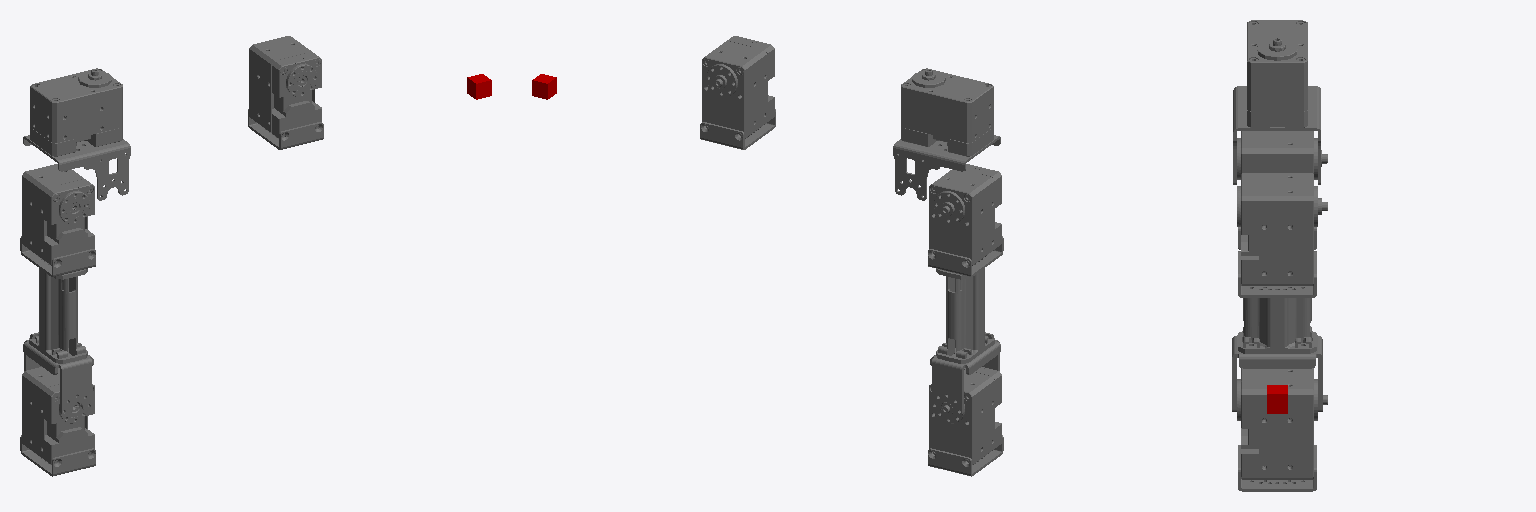
URDF robot description (turtlebot3_manipulation):
<?xml version="1.0"?>
<!-- TurtleBot3 Manipulation -->
<robot name="turtlebot3_manipulation" xmlns:xacro="http://ros.org/wiki/xacro">

  <!-- TurtleBot3 Pi -->

  <!-- Init colour -->
  <material name="black">
      <color rgba="0.0 0.0 0.0 1.0"/>
  </material>

  <material name="dark">
    <color rgba="0.3 0.3 0.3 1.0"/>
  </material>

  <material name="light_black">
    <color rgba="0.4 0.4 0.4 1.0"/>
  </material>

  <material name="blue">
    <color rgba="0.0 0.0 0.8 1.0"/>
  </material>

  <material name="green">
    <color rgba="0.0 0.8 0.0 1.0"/>
  </material>

  <material name="grey">
    <color rgba="0.5 0.5 0.5 1.0"/>
  </material>

  <material name="orange">
    <color rgba="1.0 0.4235 0.0392 1.0"/>
  </material>

  <material name="brown">
    <color rgba="0.8706 0.8118 0.7647 1.0"/>
  </material>

  <material name="red">
    <color rgba="0.8 0.0 0.0 1.0"/>
  </material>

  <material name="white">
    <color rgba="1.0 1.0 1.0 1.0"/>
  </material>

  <link name="base_footprint"/>

  <joint name="base_joint" type="fixed">
    <parent link="base_footprint"/>
    <child link="base_link" />
    <origin xyz="0 0 0.010" rpy="0 0 0"/>
  </joint>

  <link name="base_link">
    <visual>
      <origin xyz="-0.064 0 0.0" rpy="0 0 0"/>
      <geometry>
        <mesh filename="package://turtlebot3_description/meshes/bases/waffle_pi_base.stl" scale="0.001 0.001 0.001"/>
      </geometry>
      <material name="light_black"/>
    </visual>

    <collision>
      <origin xyz="-0.064 0 0.047" rpy="0 0 0"/>
      <geometry>
        <box size="0.266 0.266 0.094"/>
      </geometry>
    </collision>

    <inertial>
      <origin xyz="0 0 0" rpy="0 0 0"/>
      <mass value="1.3729096e+00"/>
      <inertia ixx="8.7002718e-03" ixy="-4.7576583e-05" ixz="1.1160499e-04"
               iyy="8.6195418e-03" iyz="-3.5422299e-06"
               izz="1.4612727e-02" />
    </inertial>
  </link>

  <joint name="wheel_left_joint" type="continuous">
    <parent link="base_link"/>
    <child link="wheel_left_link"/>
    <origin xyz="0.0 0.144 0.023" rpy="-1.57 0 0"/>
    <axis xyz="0 0 1"/>
  </joint>

  <link name="wheel_left_link">
    <visual>
      <origin xyz="0 0 0" rpy="1.57 0 0"/>
      <geometry>
        <mesh filename="package://turtlebot3_description/meshes/wheels/left_tire.stl" scale="0.001 0.001 0.001"/>
      </geometry>
      <material name="dark"/>
    </visual>

    <collision>
      <origin xyz="0 0 0" rpy="0 0 0"/>
      <geometry>
        <cylinder length="0.018" radius="0.033"/>
      </geometry>
    </collision>

    <inertial>
      <origin xyz="0 0 0" />
      <mass value="2.8498940e-02" />
      <inertia ixx="1.1175580e-05" ixy="-4.2369783e-11" ixz="-5.9381719e-09"
               iyy="1.1192413e-05" iyz="-1.4400107e-11"
               izz="2.0712558e-05" />
      </inertial>
  </link>

  <joint name="wheel_right_joint" type="continuous">
    <parent link="base_link"/>
    <child link="wheel_right_link"/>
    <origin xyz="0.0 -0.144 0.023" rpy="-1.57 0 0"/>
    <axis xyz="0 0 1"/>
  </joint>

  <link name="wheel_right_link">
    <visual>
      <origin xyz="0 0 0" rpy="1.57 0 0"/>
      <geometry>
        <mesh filename="package://turtlebot3_description/meshes/wheels/right_tire.stl" scale="0.001 0.001 0.001"/>
      </geometry>
      <material name="dark"/>
    </visual>

    <collision>
      <origin xyz="0 0 0" rpy="0 0 0"/>
      <geometry>
        <cylinder length="0.018" radius="0.033"/>
      </geometry>
    </collision>

    <inertial>
      <origin xyz="0 0 0" />
      <mass value="2.8498940e-02" />
      <inertia ixx="1.1175580e-05" ixy="-4.2369783e-11" ixz="-5.9381719e-09"
               iyy="1.1192413e-05" iyz="-1.4400107e-11"
               izz="2.0712558e-05" />
      </inertial>
  </link>

  <joint name="caster_back_right_joint" type="fixed">
    <parent link="base_link"/>
    <child link="caster_back_right_link"/>
    <origin xyz="-0.177 -0.064 -0.004" rpy="-1.57 0 0"/>
  </joint>

  <link name="caster_back_right_link">
    <collision>
      <origin xyz="0 0.001 0" rpy="0 0 0"/>
      <geometry>
        <box size="0.030 0.009 0.020"/>
      </geometry>
    </collision>

    <inertial>
      <origin xyz="0 0 0" />
      <mass value="0.005" />
      <inertia ixx="0.001" ixy="0.0" ixz="0.0"
               iyy="0.001" iyz="0.0"
               izz="0.001" />
    </inertial>
  </link>

  <joint name="caster_back_left_joint" type="fixed">
    <parent link="base_link"/>
    <child link="caster_back_left_link"/>
    <origin xyz="-0.177 0.064 -0.004" rpy="-1.57 0 0"/>
  </joint>

  <link name="caster_back_left_link">
    <collision>
      <origin xyz="0 0.001 0" rpy="0 0 0"/>
      <geometry>
        <box size="0.030 0.009 0.020"/>
      </geometry>
    </collision>

    <inertial>
      <origin xyz="0 0 0" />
      <mass value="0.005" />
      <inertia ixx="0.001" ixy="0.0" ixz="0.0"
               iyy="0.001" iyz="0.0"
               izz="0.001" />
    </inertial>
  </link>

  <joint name="imu_joint" type="fixed">
    <parent link="base_link"/>
    <child link="imu_link"/>
    <origin xyz="0.0 0 0.068" rpy="0 0 0"/>
  </joint>

  <link name="imu_link"/>

  <joint name="scan_joint" type="fixed">
    <parent link="base_link"/>
    <child link="base_scan"/>
    <origin xyz="-0.064 0 0.122" rpy="0 0 0"/>
  </joint>

  <link name="base_scan">
    <visual>
      <origin xyz="0 0 0.0" rpy="0 0 0"/>
      <geometry>
        <mesh filename="package://turtlebot3_description/meshes/sensors/lds.stl" scale="0.001 0.001 0.001"/>
      </geometry>
      <material name="dark"/>
    </visual>

    <collision>
      <origin xyz="0.015 0 -0.0065" rpy="0 0 0"/>
      <geometry>
        <cylinder length="0.0315" radius="0.055"/>
      </geometry>
    </collision>

    <inertial>
      <mass value="0.114" />
      <origin xyz="0 0 0" />
      <inertia ixx="0.001" ixy="0.0" ixz="0.0"
               iyy="0.001" iyz="0.0"
               izz="0.001" />
    </inertial>
  </link>

  <joint name="camera_joint" type="fixed">
    <origin xyz="0.073 -0.011 0.084" rpy="0 0 0"/>
    <parent link="base_link"/>
    <child link="camera_link"/>
  </joint>

  <link name="camera_link">
    <collision>
      <origin xyz="0.005 0.011 0.013" rpy="0 0 0"/>
      <geometry>
        <box size="0.015 0.030 0.027"/>
      </geometry>
    </collision>
  </link>

  <joint name="camera_rgb_joint" type="fixed">
    <origin xyz="0.003 0.011 0.009" rpy="0 0 0"/>
    <parent link="camera_link"/>
    <child link="camera_rgb_frame"/>
  </joint>
  <link name="camera_rgb_frame"/>

  <joint name="camera_rgb_optical_joint" type="fixed">
    <origin xyz="0 0 0" rpy="-1.57 0 -1.57"/>
    <parent link="camera_rgb_frame"/>
    <child link="camera_rgb_optical_frame"/>
  </joint>
  <link name="camera_rgb_optical_frame"/>


  <!-- OpenManipulator-X -->

  <!-- Base fixed joint -->
  <joint name="base_fixed" type="fixed">
    <parent link="base_link"/>
    <child link="link1"/>
    <origin xyz="-0.136 0.0 0.090" rpy="0 0 0"/>
  </joint>

  <!-- Link 1 -->
  <link name="link1">
    <visual>
      <origin xyz="0 0 0" rpy="0 0 0"/>
      <geometry>
        <mesh filename="package://open_manipulator_x_description/meshes/link1.stl" scale="0.001 0.001 0.001"/>
      </geometry>
      <material name="grey"/>
    </visual>

    <collision>
      <origin xyz="0 0 0" rpy="0 0 0"/>
      <geometry>
        <mesh filename="package://open_manipulator_x_description/meshes/link1.stl" scale="0.001 0.001 0.001"/>
      </geometry>
    </collision>

<!--    <inertial>
      <origin xyz="0 0 0" />
      <mass value="0.082" />
      <inertia ixx="0.1" ixy="0.0" ixz="0.0"
               iyy="0.1" iyz="0.0"
               izz="0.1" />
    </inertial>-->

     <inertial>
      <origin xyz="3.0876154e-04 0.0000000e+00 -1.2176461e-04" />
      <mass value="7.9119962e-02" />
      <inertia ixx="1.2505234e-05" ixy="0.0" ixz="-1.7855208e-07"
               iyy="2.1898364e-05" iyz="0.0"
               izz="1.9267361e-05" />
    </inertial>
  </link>

  <!-- Joint 1 -->
  <joint name="joint1" type="revolute">
    <parent link="link1"/>
    <child link="link2"/>
    <origin xyz="0.012 0.0 0.017" rpy="0 0 0"/>
    <axis xyz="0 0 1"/>
    <limit velocity="4.8" effort="1" lower="-2.82743338823" upper="2.82743338823" />
  </joint>

  <!--  Link 2 -->
  <link name="link2">
    <visual>
      <origin xyz="0 0 0.019" rpy="0 0 0"/>
      <geometry>
        <mesh filename="package://open_manipulator_x_description/meshes/link2.stl" scale="0.001 0.001 0.001"/>
      </geometry>
      <material name="grey"/>
    </visual>

    <collision>
      <origin xyz="0 0 0.019" rpy="0 0 0"/>
      <geometry>
        <mesh filename="package://open_manipulator_x_description/meshes/link2.stl" scale="0.001 0.001 0.001"/>
      </geometry>
    </collision>

<!--    <inertial>
      <origin xyz="0 0 0" />
      <mass value="0.098" />
      <inertia ixx="0.1" ixy="0.0" ixz="0.0"
               iyy="0.1" iyz="0.0"
               izz="0.1" />
    </inertial>-->

     <inertial>
      <origin xyz="-3.0184870e-04 5.4043684e-04 0.047433464" />
      <mass value="9.8406837e-02" />
      <inertia ixx="3.4543422e-05" ixy="-1.6031095e-08" ixz="-3.8375155e-07"
               iyy="3.2689329e-05" iyz="2.8511935e-08"
               izz="1.8850320e-05" />
    </inertial>
  </link>

  <!--  Joint 2 -->
  <joint name="joint2" type="revolute">
    <parent link="link2"/>
    <child link="link3"/>
    <origin xyz="0.0 0.0 0.0595" rpy="0 0 0"/>
    <axis xyz="0 1 0"/>
    <limit velocity="4.8" effort="1" lower="-1.79070781255" upper="1.57079632679" />
  </joint>

  <!--  Link 3 -->
  <link name="link3">
    <visual>
      <origin xyz="0 0 0" rpy="0 0 0"/>
      <geometry>
        <mesh filename="package://open_manipulator_x_description/meshes/link3.stl" scale="0.001 0.001 0.001"/>
      </geometry>
      <material name="grey"/>
    </visual>

    <collision>
      <origin xyz="0 0 0" rpy="0 0 0"/>
      <geometry>
        <mesh filename="package://open_manipulator_x_description/meshes/link3.stl" scale="0.001 0.001 0.001"/>
      </geometry>
    </collision>

<!--    <inertial>
      <origin xyz="0 0 0" />
      <mass value="0.136" />
      <inertia ixx="0.1" ixy="0.0" ixz="0.0"
               iyy="0.1" iyz="0.0"
               izz="0.1" />
    </inertial>-->

     <inertial>
      <origin xyz="1.0308393e-02 3.7743363e-04 1.0170197e-01" />
      <mass value="1.3850917e-01" />
      <inertia ixx="3.3055381e-04" ixy="-9.7940978e-08" ixz="-3.8505711e-05"
               iyy="3.4290447e-04" iyz="-1.5717516e-06"
               izz="6.0346498e-05" />
    </inertial>
  </link>

  <!--  Joint 3 -->
  <joint name="joint3" type="revolute">
    <parent link="link3"/>
    <child link="link4"/>
    <origin xyz="0.024 0 0.128" rpy="0 0 0"/>
    <axis xyz="0 1 0"/>
    <limit velocity="4.8" effort="1" lower="-0.94247779607" upper="1.38230076758" />
  </joint>

  <!--  Link 4 -->
  <link name="link4">
    <visual>
      <origin xyz="0 0 0" rpy="0 0 0"/>
      <geometry>
        <mesh filename="package://open_manipulator_x_description/meshes/link4.stl" scale="0.001 0.001 0.001"/>
      </geometry>
      <material name="grey"/>
    </visual>

    <collision>
      <origin xyz="0 0 0" rpy="0 0 0"/>
      <geometry>
        <mesh filename="package://open_manipulator_x_description/meshes/link4.stl" scale="0.001 0.001 0.001"/>
      </geometry>
    </collision>

<!--    <inertial>
      <origin xyz="0 0 0" />
      <mass value="0.131" />
      <inertia ixx="0.1" ixy="0.0" ixz="0.0"
               iyy="0.1" iyz="0.0"
               izz="0.1" />
    </inertial>-->

     <inertial>
      <origin xyz="9.0909590e-02 3.8929816e-04 2.2413279e-04" />
      <mass value="1.3274562e-01" />
      <inertia ixx="3.0654178e-05" ixy="-1.2764155e-06" ixz="-2.6874417e-07"
               iyy="2.4230292e-04" iyz="1.1559550e-08"
               izz="2.5155057e-04" />
    </inertial>
  </link>

  <!--  Joint 4 -->
  <joint name="joint4" type="revolute">
    <parent link="link4"/>
    <child link="link5"/>
    <origin xyz="0.124 0.0 0.0" rpy="0 0 0"/>
    <axis xyz="0 1 0"/>
    <limit velocity="4.8" effort="1" lower="-1.79070781255" upper="2.04203522483" />
  </joint>

  <!--  Link 5 -->
  <link name="link5">
    <visual>
      <origin xyz="0 0 0" rpy="0 0 0"/>
      <geometry>
        <mesh filename="package://open_manipulator_x_description/meshes/link5.stl" scale="0.001 0.001 0.001"/>
      </geometry>
      <material name="grey"/>
    </visual>

    <collision>
      <origin xyz="0 0 0" rpy="0 0 0"/>
      <geometry>
        <mesh filename="package://open_manipulator_x_description/meshes/link5.stl" scale="0.001 0.001 0.001"/>
      </geometry>
    </collision>

<!--    <inertial>
      <origin xyz="0 0 0" />
      <mass value="0.141" />
      <inertia ixx="0.1" ixy="0.0" ixz="0.0"
               iyy="0.1" iyz="0.0"
               izz="0.1" />
    </inertial>-->

     <inertial>
      <origin xyz="4.4206755e-02 3.6839985e-07 8.9142216e-03" />
      <mass value="1.4327573e-01" />
      <inertia ixx="8.0870749e-05" ixy="0.0" ixz="-1.0157896e-06"
               iyy="7.5980465e-05" iyz="0.0"
               izz="9.3127351e-05" />
    </inertial>
  </link>

  <!--  Gripper link -->
  <link name="gripper_link">
    <visual>
      <origin xyz="0.0 0.0 0" rpy="0 0 0"/>
      <geometry>
        <mesh filename="package://open_manipulator_x_description/meshes/link_grip_l.stl" scale="0.001 0.001 0.001"/>
      </geometry>
      <material name="grey"/>
    </visual>

    <collision>
      <origin xyz="0.0 0.0 0" rpy="0 0 0"/>
      <geometry>
        <mesh filename="package://open_manipulator_x_description/meshes/link_grip_l.stl" scale="0.001 0.001 0.001"/>
      </geometry>
    </collision>

    <inertial>
      <origin xyz="0 0 0" />
      <mass value="0.017" />
      <inertia ixx="1.0e-03" ixy="0.0" ixz="0.0"
               iyy="1.0e-03" iyz="0.0"
               izz="1.0e-03" />
    </inertial>

<!--     <inertial>
      <origin xyz="${0.028 + 8.3720668e-03} ${0.0246 + 9.9696160e-03} -4.2836895e-07" />
      <mass value="3.2218127e-02" />
      <inertia ixx="9.5568826e-06" ixy="2.8424644e-06" ixz="-3.2829197e-10"
               iyy="2.2552871e-05" iyz="-3.1463634e-10"
               izz="1.7605306e-05" />
    </inertial>-->
  </link>

  <!--  Gripper joint -->
  <joint name="gripper" type="prismatic">
    <parent link="link5"/>
    <child link="gripper_link"/>
    <origin xyz="0.0817 0.021 0.0" rpy="0 0 0"/>
    <axis xyz="0 1 0"/>
    <limit velocity="4.8" effort="1" lower="-0.010" upper="0.019" />
  </joint>

  <!--  Gripper link sub -->
  <link name="gripper_link_sub">
    <visual>
      <origin xyz="0.0 -0.0 0" rpy="0 0 0"/>
      <geometry>
        <mesh filename="package://open_manipulator_x_description/meshes/link_grip_r.stl" scale="0.001 0.001 0.001"/>
      </geometry>
      <material name="grey"/>
    </visual>

    <collision>
      <origin xyz="0.0 -0.0 0" rpy="0 0 0"/>
      <geometry>
        <mesh filename="package://open_manipulator_x_description/meshes/link_grip_r.stl" scale="0.001 0.001 0.001"/>
      </geometry>
    </collision>

    <inertial>
      <origin xyz="0 0 0" />
      <mass value="0.017" />
      <inertia ixx="1.0e-03" ixy="0.0" ixz="0.0"
               iyy="1.0e-03" iyz="0.0"
               izz="1.0e-03" />
    </inertial>

<!--     <inertial>
      <origin xyz="${0.028 + 8.3720668e-03} ${-0.0246 - 9.9696160e-03} -4.2836895e-07" />
      <mass value="3.2218127e-02" />
      <inertia ixx="9.5568826e-06" ixy="2.8424644e-06" ixz="-3.2829197e-10"
               iyy="2.2552871e-05" iyz="-3.1463634e-10"
               izz="1.7605306e-05" />
    </inertial>-->
  </link>

  <!--  Gripper joint sub -->
  <joint name="gripper_sub" type="prismatic">
    <parent link="link5"/>
    <child link="gripper_link_sub"/>
    <origin xyz="0.0817 -0.021 0" rpy="0 0 0"/>
    <axis xyz="0 -1 0"/>
    <limit velocity="4.8" effort="1" lower="-0.010" upper="0.019" />
    <mimic joint="gripper" multiplier="1"/>
  </joint>

  <!-- end effector joint -->
  <joint name="end_effector_joint" type="fixed">
    <origin xyz="0.126 0.0 0.0" rpy="0 0 0"/>
    <parent link="link5"/>
    <child link="end_effector_link"/>
  </joint>

  <!-- end effector link -->
  <link name="end_effector_link">
    <visual>
      <origin xyz="0 0 0" rpy="0 0 0"/>
      <geometry>
        <box size="0.01 0.01 0.01" />
      </geometry>
      <material name="red"/>
     </visual>

    <inertial>
      <origin xyz="0.0 0.0 0.0" rpy="0 0 0"/>
      <mass value="0.001"/>
      <inertia ixx="1.0e-06" ixy="0.0" ixz="0.0" iyy="1.0e-06" iyz="0.0" izz="1.0e-06" />
    </inertial>
  </link>
  
</robot>

--- What the picture shows (computed from the rendered views, not written in the file) ---
Views: 3 orthographic renders of the robot side by side, from view 1: azimuth 30°, elevation 25°; view 2: azimuth 150°, elevation 25°; view 3: azimuth 270°, elevation 25°.
Robot: turtlebot3_manipulation — 19 links, 18 joints (4 revolute, 2 continuous, 2 prismatic, 10 fixed); root link base_footprint; default pose: all joints at 0.
Visible links, largest first — view 1: link3, link4, link5, link2, end_effector_link; view 2: link3, link4, link5, link2, end_effector_link; view 3: link5, link3, link2, link4, end_effector_link.
Boxes of the visible links, x1,y1,x2,y2 form: link3: (20,164,95,415); link4: (23,68,130,200); link5: (248,36,323,149); link2: (20,367,95,476); end_effector_link: (467,74,491,99); link3: (928,164,1003,415); link4: (893,68,1000,200); link5: (700,36,775,149); link2: (928,367,1003,476); end_effector_link: (532,74,556,99); link5: (1237,173,1327,297); link3: (1232,131,1327,411); link2: (1237,368,1327,491); link4: (1233,20,1320,184); end_effector_link: (1267,385,1287,413).
Size in the robot's own frame: 0.2933 by 0.0444 by 0.2369 metres.
4 mesh visuals loaded from 11 distinct referenced files (4 binary STL); not drawn: 7 (reference not matched to a file when rendering).